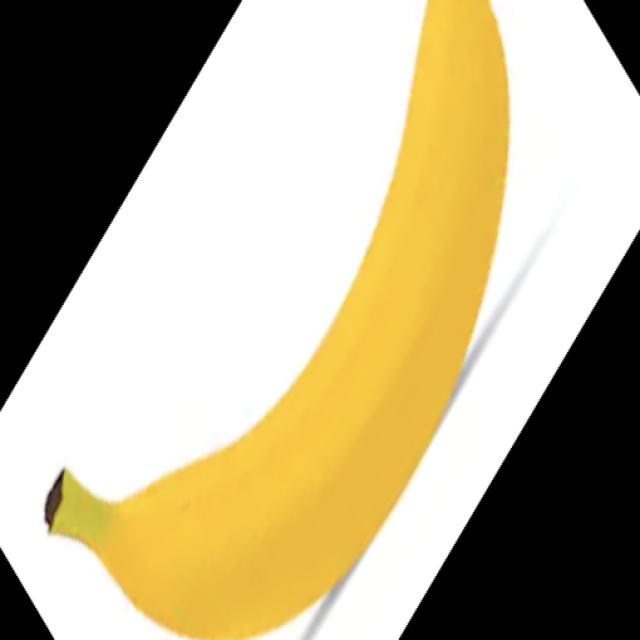god quality banana: (45, 0, 509, 638)
